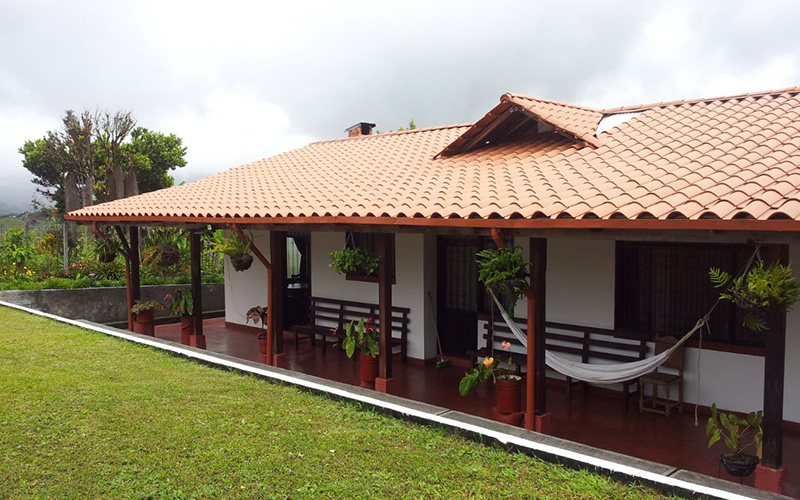House: (63, 70, 797, 484)
